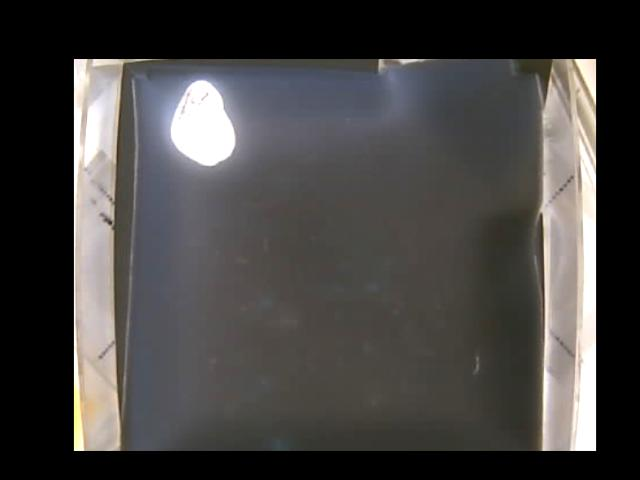Pebble: (169, 80, 235, 164)
